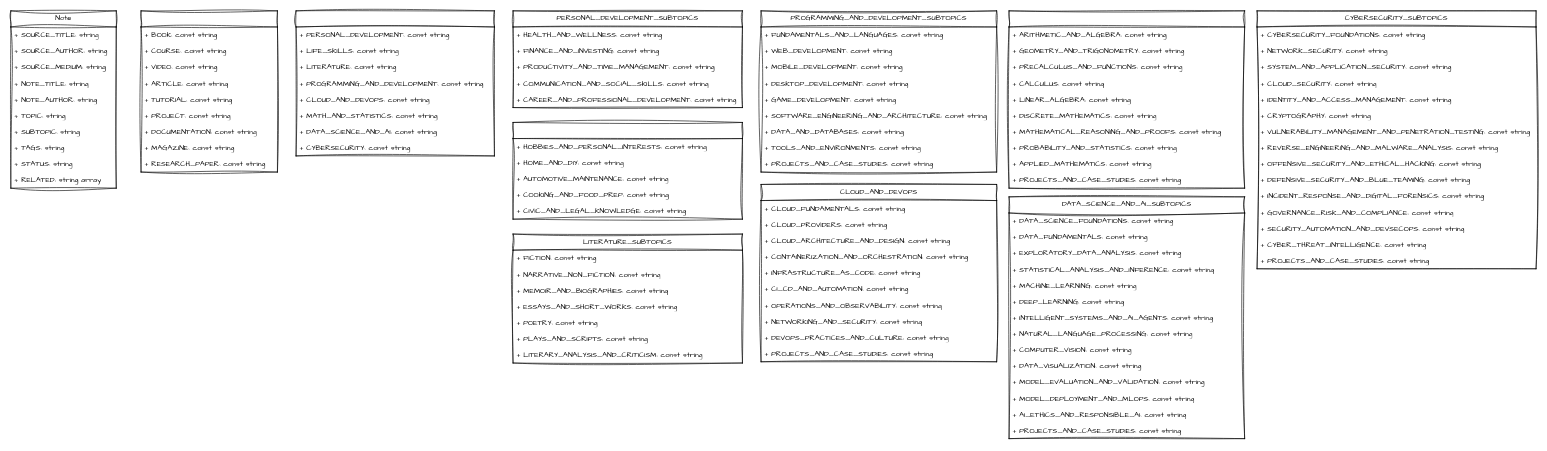
Some shapes in this 1547 by 451 pixel diagram are drawn without their labels. Here are the shapes that lost their labels. From the top down, the box of each, then its label:
(140, 10, 277, 172): MEDIUMS
(295, 10, 494, 156): TOPICS
(1008, 10, 1245, 188): MATH_AND_STATISTICS_SUBTOPICS
(512, 122, 742, 219): LIFE_SKILLS_SUBTOPICS
